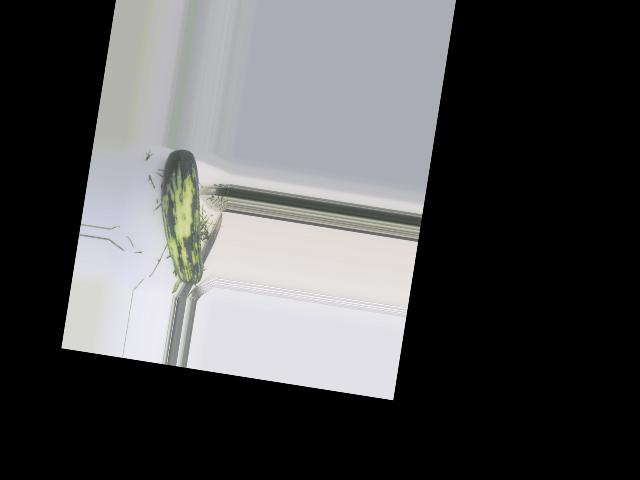cucumber: (146, 147, 221, 287)
